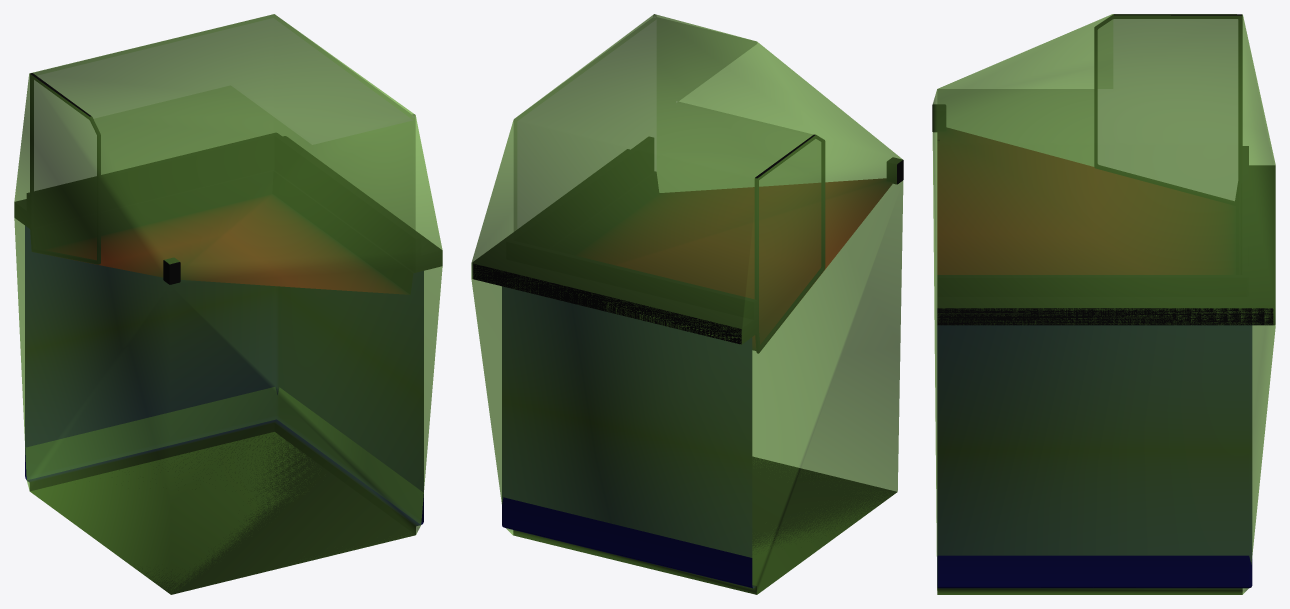
File: M_md_Stall5_90cnr_01_m.fbx
3 views of the same model, side by side, from view 1: azimuth 30°, elevation 25°; view 2: azimuth 150°, elevation 25°; view 3: azimuth 270°, elevation 25° (orthographic). The views are drawn at different scales.
Visible parts, largest first — view 1: M_md_Stall5_90cnr_01_m_col_01, M_md_Stall5_90cnr_01_m_LOD0; view 2: M_md_Stall5_90cnr_01_m_col_01, M_md_Stall5_90cnr_01_m_LOD0; view 3: M_md_Stall5_90cnr_01_m_LOD0, M_md_Stall5_90cnr_01_m_col_01.
Part boxes in pixels (box(x1,y1,x2,y2)): M_md_Stall5_90cnr_01_m_col_01: box(14, 14, 442, 594); M_md_Stall5_90cnr_01_m_LOD0: box(14, 14, 442, 594); M_md_Stall5_90cnr_01_m_col_01: box(471, 14, 903, 594); M_md_Stall5_90cnr_01_m_LOD0: box(472, 14, 903, 594); M_md_Stall5_90cnr_01_m_LOD0: box(932, 14, 1275, 594); M_md_Stall5_90cnr_01_m_col_01: box(932, 14, 1275, 594).
Size of what is drawn, in the model's own units: 104 by 151 by 104.
